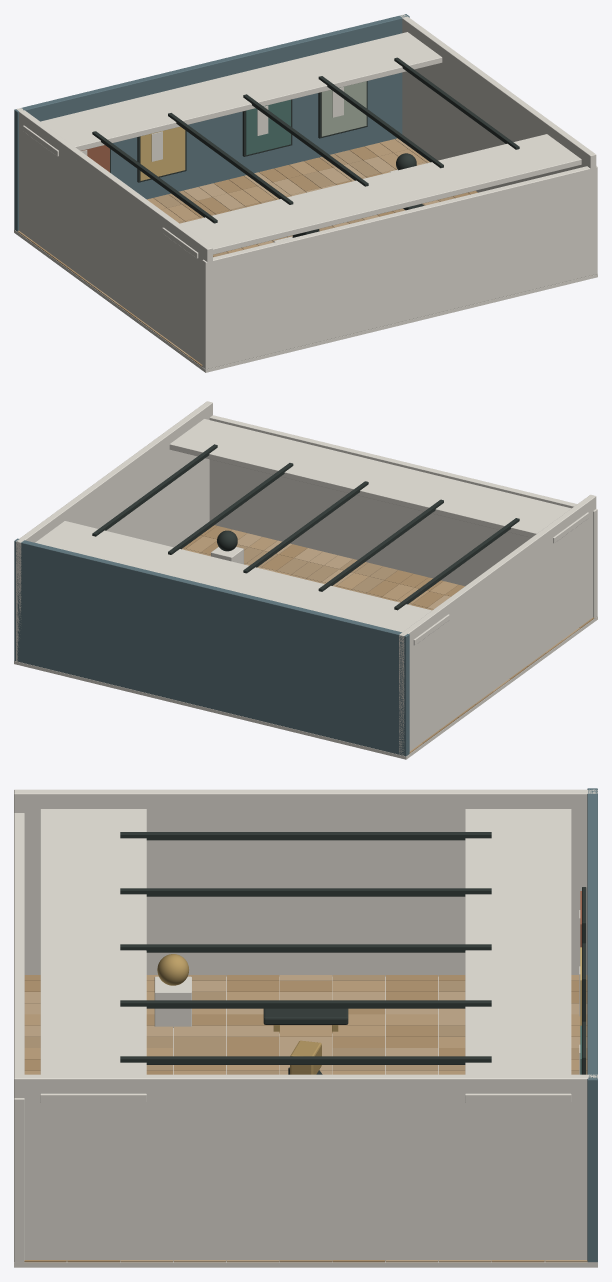
The picture shows the model from 3 angles, top to bottom: view 1: azimuth 30°, elevation 25°; view 2: azimuth 150°, elevation 25°; view 3: azimuth 270°, elevation 25°; orthographic projection. The views are drawn at different scales.
Visible parts, largest first — view 1: LocusForge gallery; view 2: LocusForge gallery; view 3: LocusForge gallery.
Part boxes in pixels (x1,y1,x2,y2): LocusForge gallery: (14,14,597,372); LocusForge gallery: (14,401,597,759); LocusForge gallery: (14,788,597,1267).
Size of the model in its own units: 26 by 7.8 by 22.
